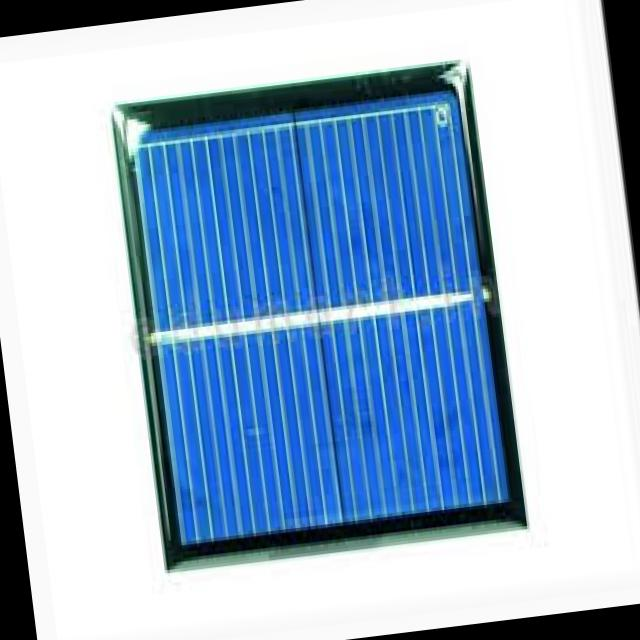no faulty: (132, 102, 517, 550)
